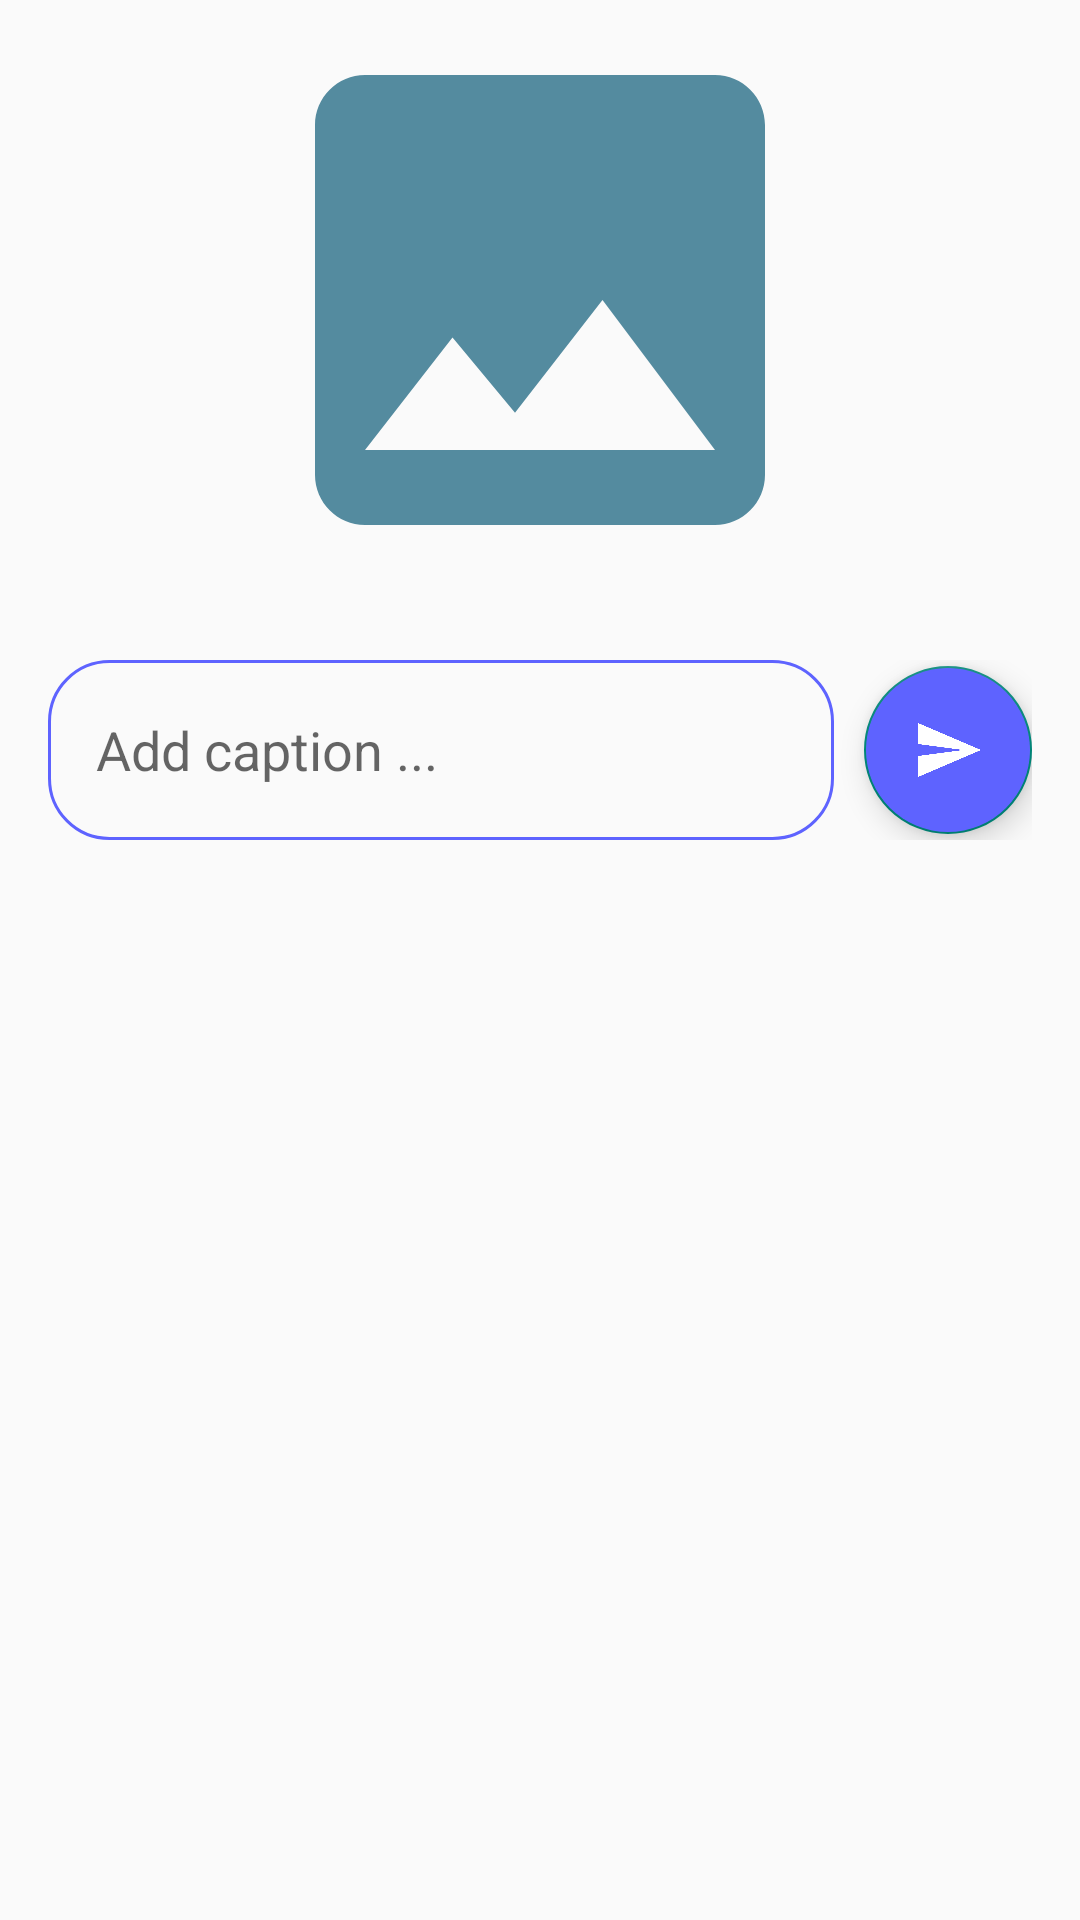

Where to tap for icons on this 1080x1920 app screen, as [x,y]:
send: [948,750]
